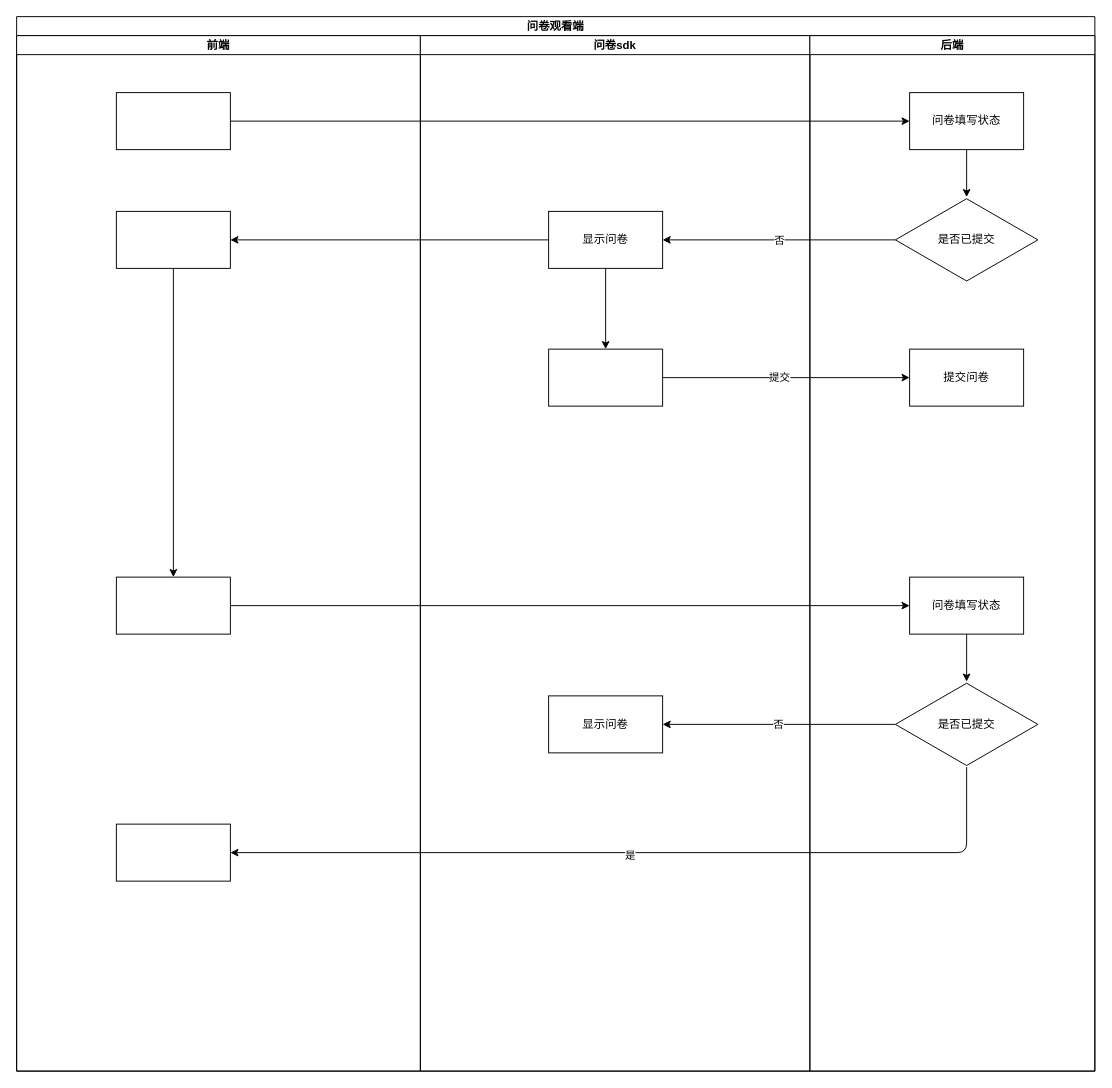
Some shapes in this 1112 by 1088 pixel diagram are drawn without their labels. Each missing label, with the centre of its shape:
"发送问卷聊天消息" belongs at pixel 172 239.
"填写问卷" belongs at pixel 605 377.
"提示已提交" belongs at pixel 172 852.
"点击聊天问卷" belongs at pixel 172 605.
"问卷推送消息" belongs at pixel 172 121.
